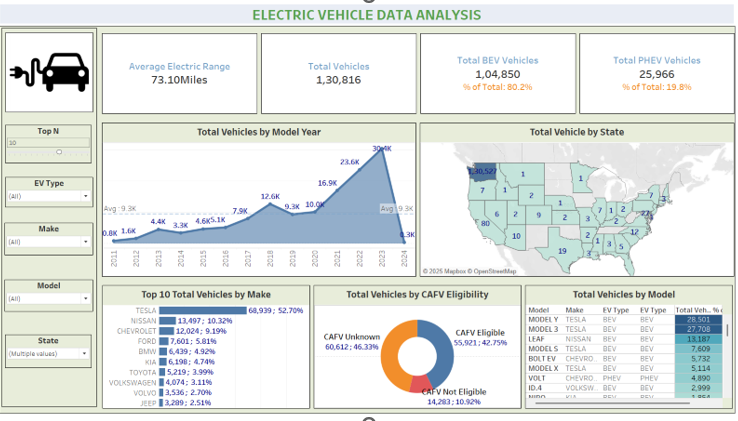

This screenshot's page, from the dashboard's own definition file:
{"tool":"tableau","page":{"name":"Dashboard 1","canvas":[1600,900],"ordinal":0},"visuals":[{"type":"title","box":[8,8,1584,49]},{"type":"worksheet","title":"Avg Electric Range","mark":"Automatic","box":[227,70,342,181]},{"type":"worksheet","title":"Total Vehicle","mark":"Automatic","box":[569,70,342,181]},{"type":"worksheet","title":"Total BEV Vehicles","mark":"Automatic","box":[911,70,342,181]},{"type":"worksheet","title":"Total PHEV Vehicles","mark":"Automatic","box":[1253,70,341,181]},{"type":"image","param":"C:/Users/anupl/Downloads/CAR LOGO.png","box":[24,72,188,172]},{"type":"worksheet","title":"Total Vehicles by Model Year","mark":"Line","rows":["Calculation_1453536799694557184","Calculation_1453536799694557184"],"cols":["Model Year"],"box":[227,262,683,339]},{"type":"worksheet","title":"Total Vehicle by State","mark":"Multipolygon","box":[910,262,683,339]},{"type":"parameter","param":"[Parameters].[Parameter 1]","box":[23,271,186,82]},{"type":"filter","title":"Top 10 Total Vehicles by Make","param":"[federated.1ncs3oz0jt2o5c0zpc71o0enkop7].[none:Electric Vehicle Type:nk]","box":[23,383,189,65]},{"type":"filter","title":"Total Vehicles by Model Year","param":"[federated.1ncs3oz0jt2o5c0zpc71o0enkop7].[none:Make:nk]","box":[22,481,190,70]},{"type":"filter","title":"Total Vehicles by Model Year","param":"[federated.1ncs3oz0jt2o5c0zpc71o0enkop7].[none:Model:nk]","box":[22,603,190,69]},{"type":"worksheet","title":"Top 10 Total Vehicles by Make","mark":"Automatic","rows":["Make"],"cols":["Calculation_1453536799694557184"],"box":[228,611,454,273]},{"type":"worksheet","title":"Total Vehicles by CAFV Eligibility","mark":"Pie","rows":["Calculation_1453536799721152521","Calculation_1453536799721152521"],"box":[682,611,454,273]},{"type":"worksheet","title":"Total Vehicles by Model","mark":"Square","rows":["Model","Make","Electric Vehicle Type","Electric Vehicle Type"],"box":[1136,611,454,273]},{"type":"filter","title":"Top 10 Total Vehicles by Make","param":"[federated.1ncs3oz0jt2o5c0zpc71o0enkop7].[none:State:nk]","box":[23,721,186,72]}]}

Visuals, with their boxes in screenshot pixels (x1, y1, x2, y2), scaled from the page's 1600x900 canvas onto the 738x421 screenshot:
title: bbox=[4, 4, 734, 27]
"Avg Electric Range" worksheet: bbox=[105, 33, 262, 117]
"Total Vehicle" worksheet: bbox=[262, 33, 420, 117]
"Total BEV Vehicles" worksheet: bbox=[420, 33, 578, 117]
"Total PHEV Vehicles" worksheet: bbox=[578, 33, 735, 117]
image: bbox=[11, 34, 98, 114]
"Total Vehicles by Model Year" worksheet (Line marks): bbox=[105, 123, 420, 281]
"Total Vehicle by State" worksheet (Multipolygon marks): bbox=[420, 123, 735, 281]
parameter: bbox=[11, 127, 96, 165]
"Top 10 Total Vehicles by Make" filter: bbox=[11, 179, 98, 210]
"Total Vehicles by Model Year" filter: bbox=[10, 225, 98, 258]
"Total Vehicles by Model Year" filter: bbox=[10, 282, 98, 314]
"Top 10 Total Vehicles by Make" worksheet: bbox=[105, 286, 315, 414]
"Total Vehicles by CAFV Eligibility" worksheet (Pie marks): bbox=[315, 286, 524, 414]
"Total Vehicles by Model" worksheet (Square marks): bbox=[524, 286, 733, 414]
"Top 10 Total Vehicles by Make" filter: bbox=[11, 337, 96, 371]
